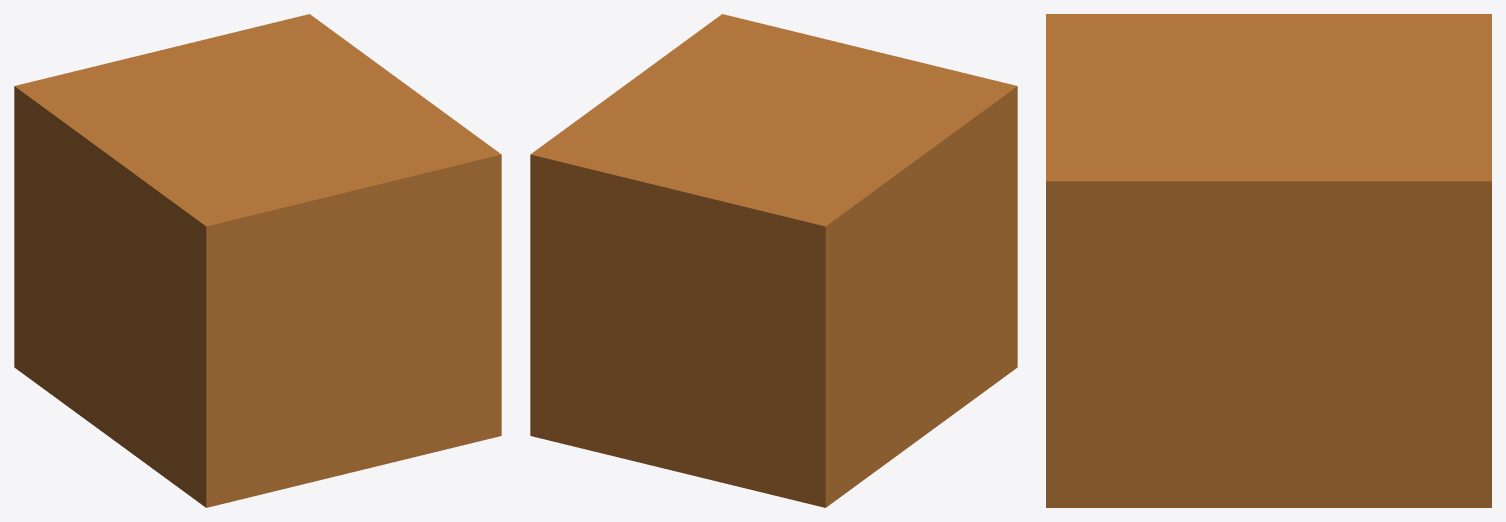
3 views of the same model, side by side, from view 1: azimuth 30°, elevation 25°; view 2: azimuth 150°, elevation 25°; view 3: azimuth 270°, elevation 25° (orthographic). The views are drawn at different scales.
Visible parts, largest first — view 1: box_2_6, box_2_7, box_2_8, box_2_1; view 2: box_2_2, box_2_7, box_2_8, box_2_1; view 3: box_2_4, box_2_8, box_2_1.
Boxes of the visible parts, x1,y1,x2,y2 form: box_2_6: (206,154,501,507); box_2_7: (14,86,206,507); box_2_8: (162,14,501,190); box_2_1: (15,50,353,226); box_2_2: (530,154,825,507); box_2_7: (825,86,1017,507); box_2_8: (530,14,869,190); box_2_1: (678,50,1016,226); box_2_4: (1046,181,1491,507); box_2_8: (1046,97,1491,181); box_2_1: (1046,14,1491,97).
Bounding box in the file's own units: 60.99 × 55.54 × 68.66.
